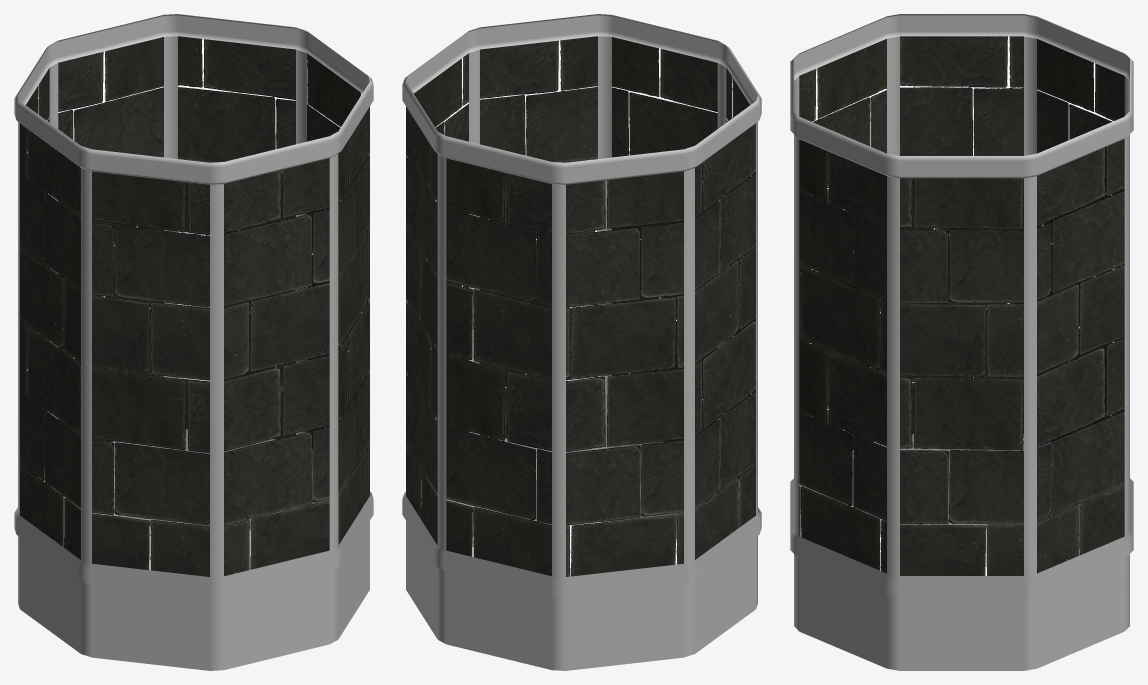
3 views of the same model, side by side, from view 1: azimuth 30°, elevation 25°; view 2: azimuth 150°, elevation 25°; view 3: azimuth 270°, elevation 25° (orthographic).
Visible parts, largest first — view 1: SM_Dowdun_Corner_Turret_01_LOD0; view 2: SM_Dowdun_Corner_Turret_01_LOD0; view 3: SM_Dowdun_Corner_Turret_01_LOD0.
Part boxes in pixels (box(x1,y1,x2,y2)): SM_Dowdun_Corner_Turret_01_LOD0: box(14, 14, 373, 670); SM_Dowdun_Corner_Turret_01_LOD0: box(402, 14, 761, 670); SM_Dowdun_Corner_Turret_01_LOD0: box(790, 14, 1133, 670).
Size of the model in its own units: 6.04 by 10 by 6.04.
